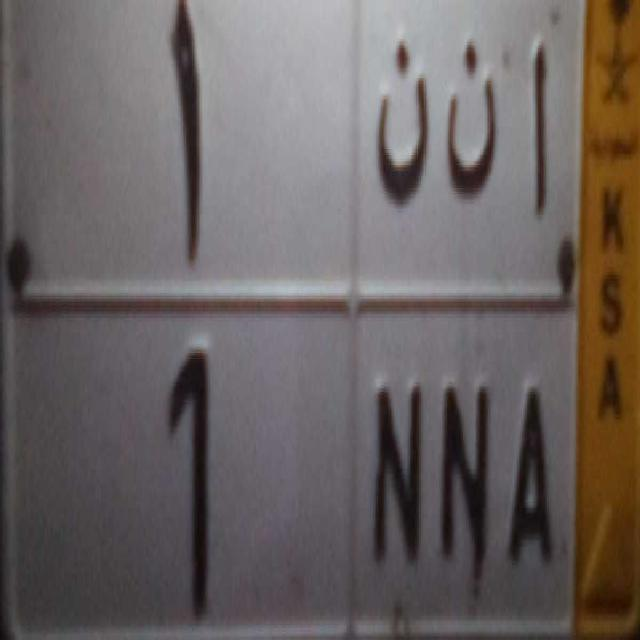license_plate: (0, 283, 577, 640)
